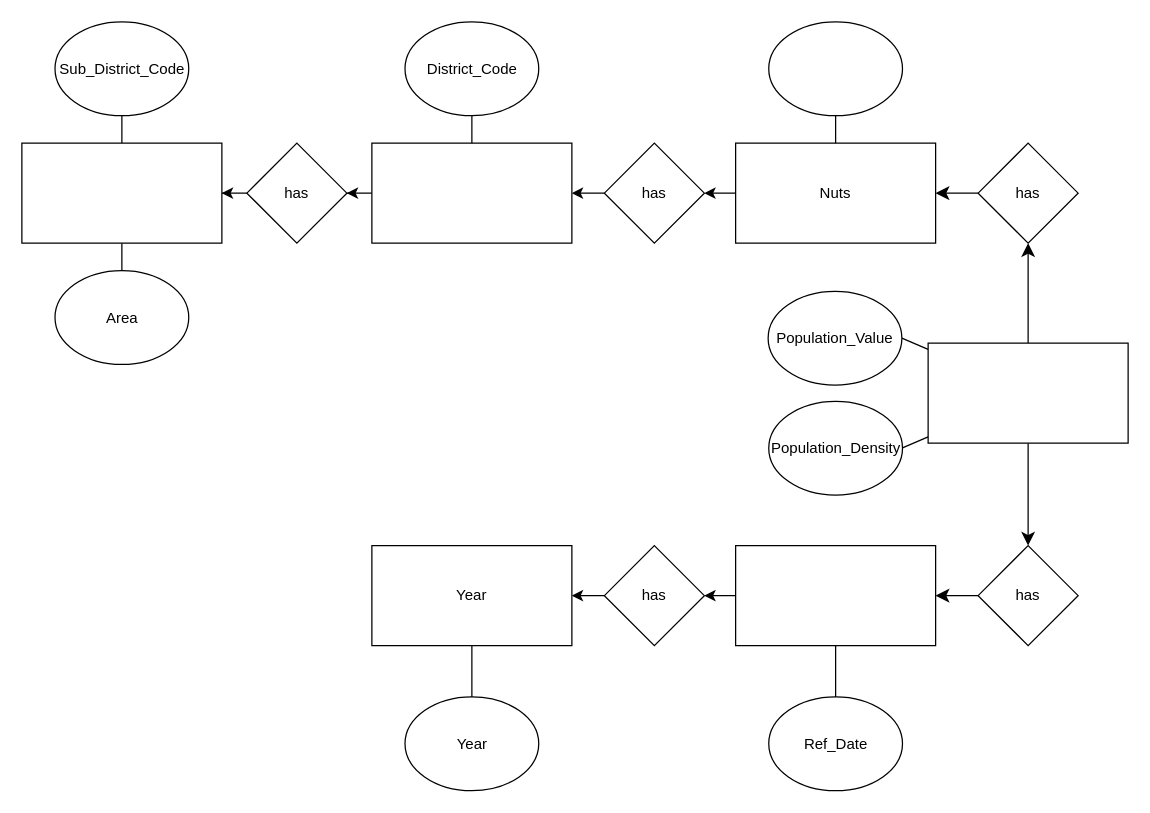
Image size: 1150x813. Some labels were removed from this diagram. Here are the shapes that lost their labels. From the top down, the centre of each, then its label:
At (835,68): "Nuts_Code".
At (121,192): "SubDistrict".
At (471,192): "District".
At (1027,392): "Population".
At (835,595): "Date".
